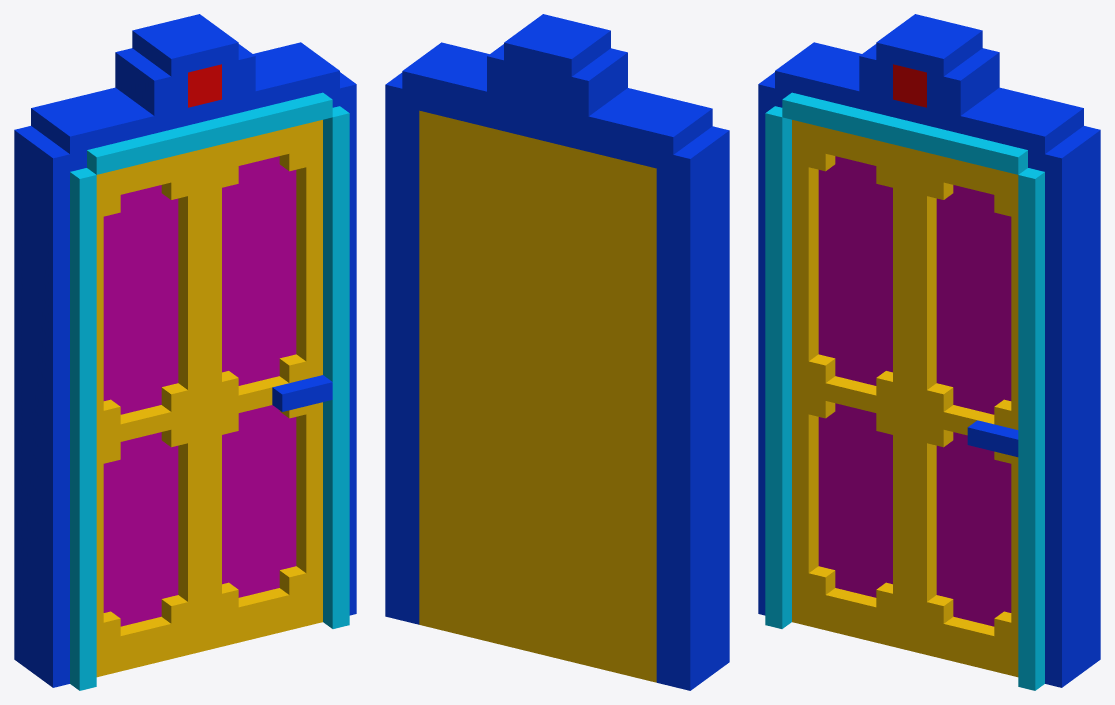
The model's file is door.obj.
3 renders of one model, left to right at view 1: azimuth 30°, elevation 25°; view 2: azimuth 150°, elevation 25°; view 3: azimuth 330°, elevation 25°, orthographic.
Size of the model in its own units: 1.8 by 3.4 by 0.5.
1 material, 1 textured.
